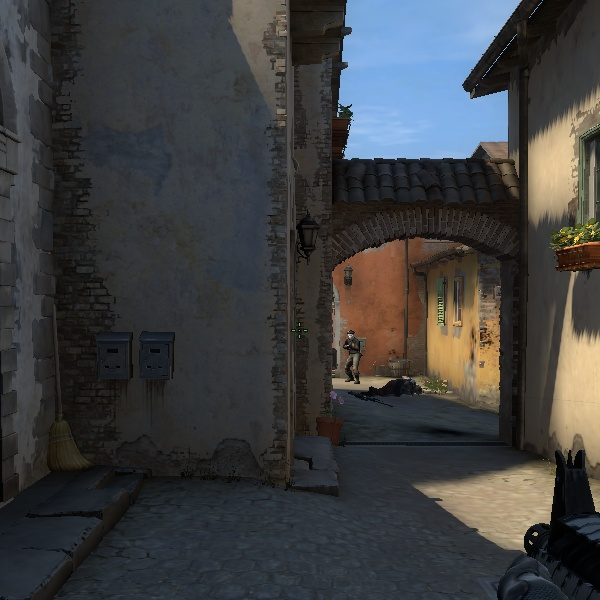ct_body: (336, 328, 367, 384)
